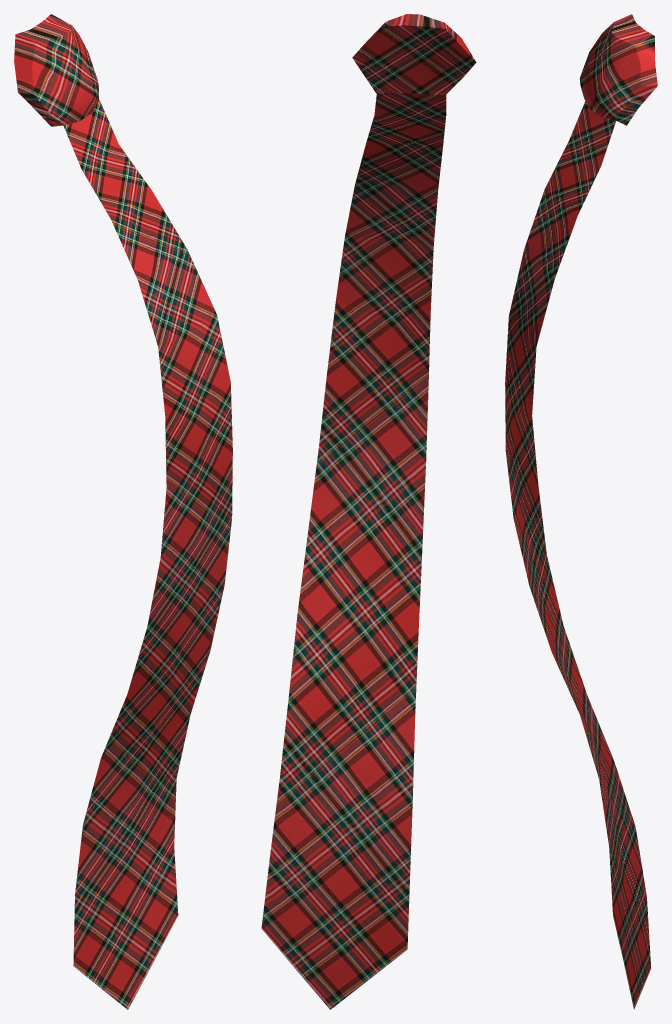
The model's file is Pose-4_SuitTie-1.fbx.
The picture shows the model from 3 angles, left to right: view 1: azimuth 30°, elevation 25°; view 2: azimuth 150°, elevation 25°; view 3: azimuth 270°, elevation 25°; orthographic projection. The views are drawn at different scales.
Parts seen in each view (by area): view 1: Pose-4_SuitTie-1; view 2: Pose-4_SuitTie-1; view 3: Pose-4_SuitTie-1.
Boxes of the visible parts, x1=… form: Pose-4_SuitTie-1: x1=14, y1=14, x2=232, y2=1009; Pose-4_SuitTie-1: x1=261, y1=14, x2=476, y2=1009; Pose-4_SuitTie-1: x1=505, y1=14, x2=657, y2=1009.
Bounding box in the file's own units: 10.08 × 51.67 × 7.58.
